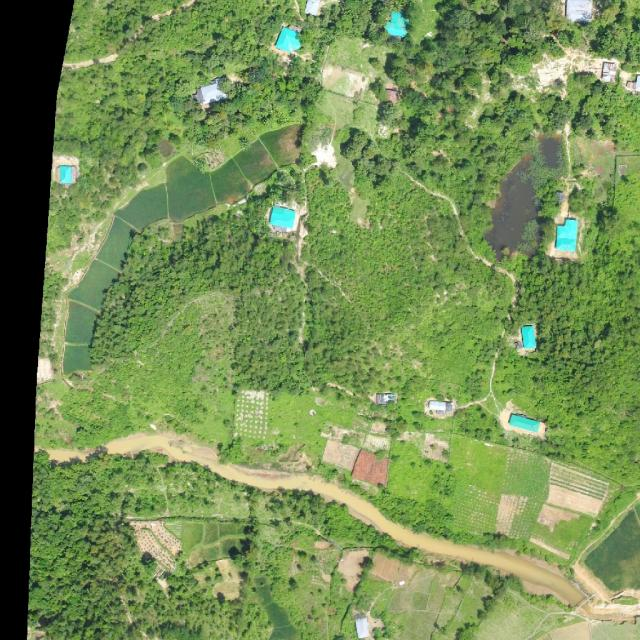agricultural_land: (157, 152, 218, 224), (111, 180, 178, 237), (67, 257, 119, 313), (202, 159, 253, 211), (232, 139, 279, 188), (96, 216, 139, 269), (259, 124, 308, 170), (65, 301, 97, 346), (62, 345, 92, 373)
building: (191, 76, 231, 111), (384, 9, 414, 41), (275, 26, 306, 56), (554, 218, 578, 253), (52, 155, 79, 184), (507, 412, 542, 434), (268, 206, 297, 230), (521, 324, 536, 350)
unmetalled_road: (105, 412, 595, 609)
